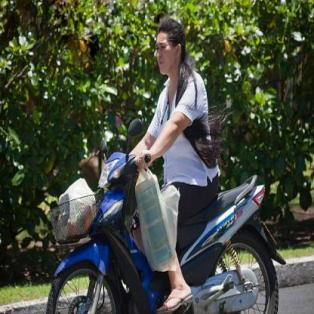Motocicleta: (48, 140, 288, 313)
